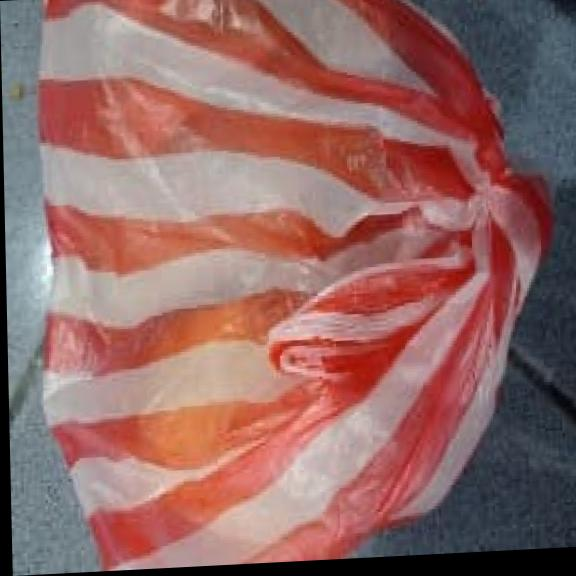Plastik: (39, 0, 550, 568)
